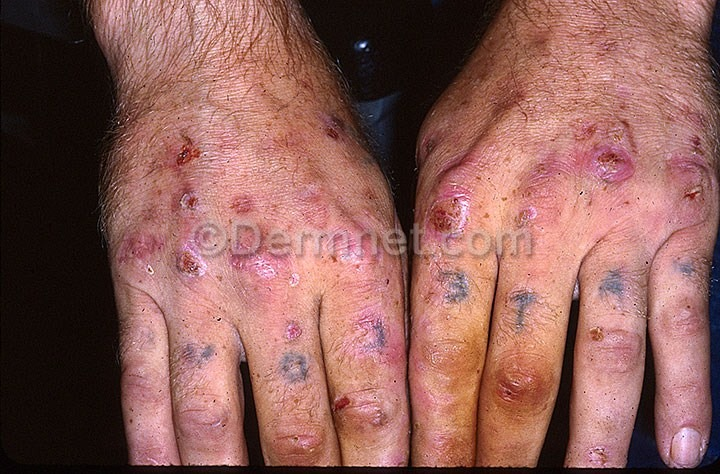Melasma: (180, 256, 394, 473), (405, 95, 718, 231), (132, 88, 374, 220), (435, 310, 720, 419), (110, 219, 193, 300), (579, 433, 631, 474)
